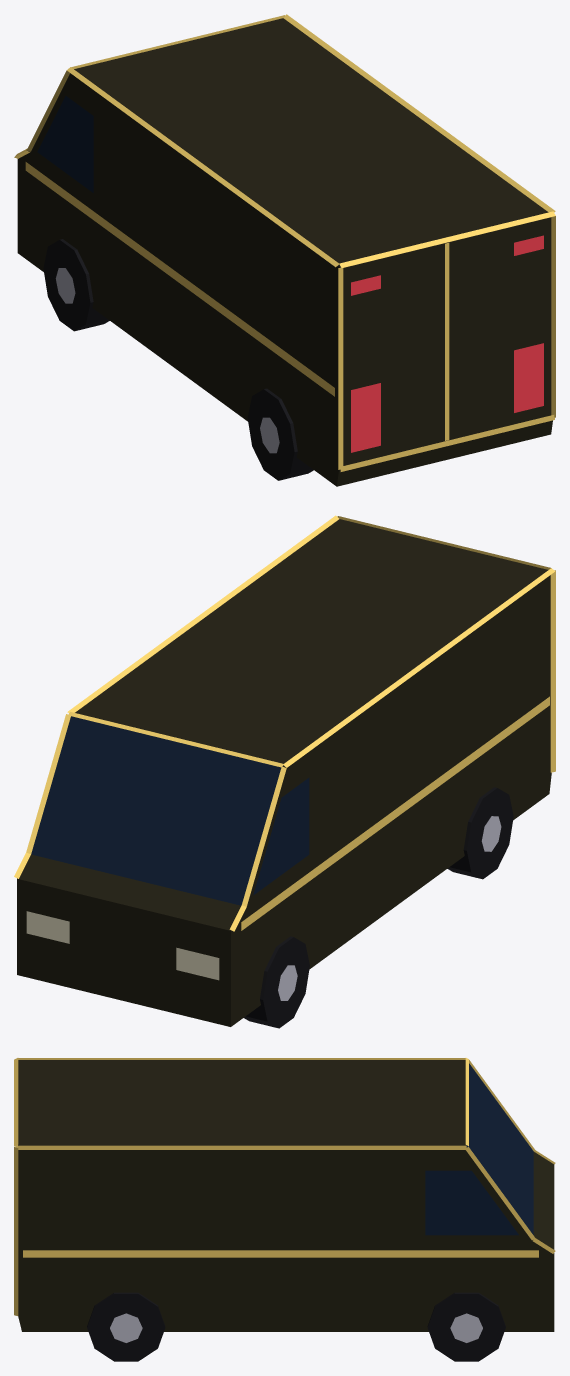
The model's file is car_traffic_b.glb.
The picture shows the model from 3 angles, top to bottom: view 1: azimuth 30°, elevation 25°; view 2: azimuth 150°, elevation 25°; view 3: azimuth 270°, elevation 25°; orthographic projection. The views are drawn at different scales.
Parts seen in each view (by area): view 1: root; view 2: root; view 3: root.
Boxes of the visible parts, x1,y1,x2,y2 form: root: (14,14,555,486); root: (14,515,555,1028); root: (14,1058,555,1361).
Bounding box in the file's own units: 2.08 × 2.31 × 5.25.
